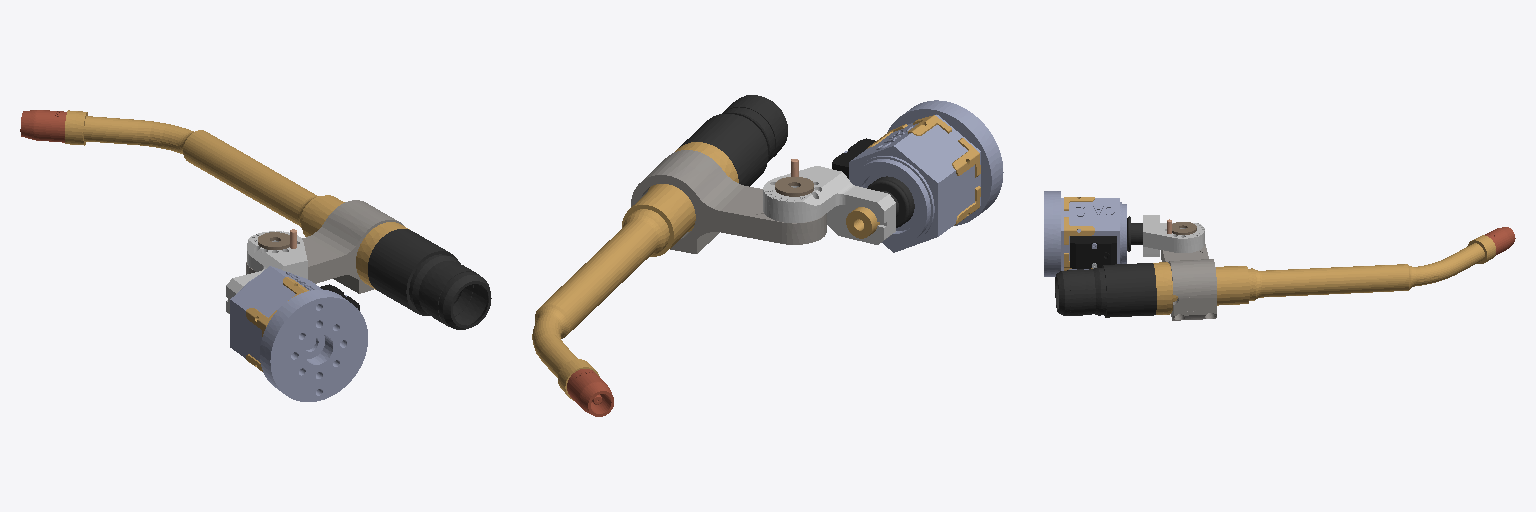
--- What the picture shows (computed from the rendered views, not written in the file) ---
Views: 3 orthographic renders of the robot side by side, from view 1: azimuth 30°, elevation 25°; view 2: azimuth 150°, elevation 25°; view 3: azimuth 270°, elevation 25°.
Model robot with 14 links and 13 joints (6 revolute, 7 fixed), rooted at world, posed all joints at 0.
Visible links, largest first — view 1: root, ee_joint_arm, nozzle_tip; view 2: root, ee_joint_arm, nozzle_tip; view 3: root, ee_joint_arm.
Link boxes in pixels (x1,y1,x2,y2): root: [65, 110, 491, 371]; ee_joint_arm: [260, 290, 367, 401]; nozzle_tip: [20, 110, 66, 142]; root: [532, 95, 980, 404]; ee_joint_arm: [887, 100, 1003, 225]; nozzle_tip: [567, 369, 613, 416]; root: [1055, 197, 1495, 320]; ee_joint_arm: [1044, 191, 1060, 276].
Size in the robot's own frame: 0.3655 by 0.8374 by 0.153 metres.
Meshes: 35 distinct files referenced, 28 mesh visuals loaded (28 binary STL); not drawn: 7 (reference not matched to a file when rendering).

robot.urdf — robot:
<robot name="">
	<link name="world">
		<inertial>
			<origin rpy="0.00000 -0.00000 0.00000" xyz="0.00000 0.00000 0.00000" />
			<mass value="0.00000" />
			<inertia ixx="0.00000" ixy="0" ixz="0" iyy="0.00000" iyz="0" izz="0.00000" />
		</inertial>
	</link>
	<link name="base_link">
		<inertial>
			<origin rpy="0.00000 -0.00000 0.00000" xyz="0.00000 0.00000 0.00000" />
			<mass value="4.00000" />
			<inertia ixx="0.01063" ixy="0" ixz="0" iyy="0.00875" iyz="0" izz="0.01809" />
		</inertial>
		<visual>
			<origin rpy="0.00000 -0.00000 0.00000" xyz="0.00000 0.00000 0.00000" />
			<geometry>
				<mesh filename="rlbotics/envs/models/robots/universal_robots/ur10/meshes/ur10/visual/base.dae" scale="1.00000 1.00000 1.00000" />
			</geometry>
			<material name="0">
				<color rgba="0.70000 0.70000 0.70000 1.00000" />
			</material>
		</visual>
		<collision>
			<origin rpy="0.00000 -0.00000 0.00000" xyz="0.00000 0.00000 0.00000" />
			<geometry>
				<mesh filename="rlbotics/envs/models/robots/universal_robots/ur10/meshes/ur10/collision/base.stl" scale="1.00000 1.00000 1.00000" />
			</geometry>
		</collision>
	</link>
	<link name="shoulder_link">
		<inertial>
			<origin rpy="0.00000 -0.00000 0.00000" xyz="0.00000 0.00000 0.00000" />
			<mass value="7.77800" />
			<inertia ixx="0.03989" ixy="0" ixz="0" iyy="0.03770" iyz="0" izz="0.03412" />
		</inertial>
		<visual>
			<origin rpy="0.00000 -0.00000 0.00000" xyz="0.00000 0.00000 0.00000" />
			<geometry>
				<mesh filename="rlbotics/envs/models/robots/universal_robots/ur10/meshes/ur10/visual/shoulder.dae" scale="1.00000 1.00000 1.00000" />
			</geometry>
			<material name="1">
				<color rgba="0.70000 0.70000 0.70000 1.00000" />
			</material>
		</visual>
		<collision>
			<origin rpy="0.00000 -0.00000 0.00000" xyz="0.00000 0.00000 0.00000" />
			<geometry>
				<mesh filename="rlbotics/envs/models/robots/universal_robots/ur10/meshes/ur10/collision/shoulder.stl" scale="1.00000 1.00000 1.00000" />
			</geometry>
		</collision>
	</link>
	<link name="upper_arm_link">
		<inertial>
			<origin rpy="0.00000 -0.00000 0.00000" xyz="0.00000 -0.04500 0.30600" />
			<mass value="12.93000" />
			<inertia ixx="0.65013" ixy="0" ixz="0" iyy="0.64040" iyz="0" izz="0.06264" />
		</inertial>
		<visual>
			<origin rpy="0.00000 -0.00000 0.00000" xyz="0.00000 0.00000 0.00000" />
			<geometry>
				<mesh filename="rlbotics/envs/models/robots/universal_robots/ur10/meshes/ur10/visual/upperarm.dae" scale="1.00000 1.00000 1.00000" />
			</geometry>
			<material name="2">
				<color rgba="0.70000 0.70000 0.70000 1.00000" />
			</material>
		</visual>
		<collision>
			<origin rpy="0.00000 -0.00000 0.00000" xyz="0.00000 0.00000 0.00000" />
			<geometry>
				<mesh filename="rlbotics/envs/models/robots/universal_robots/ur10/meshes/ur10/collision/upperarm.stl" scale="1.00000 1.00000 1.00000" />
			</geometry>
		</collision>
	</link>
	<link name="forearm_link">
		<inertial>
			<origin rpy="0.00000 -0.00000 0.00000" xyz="0.00000 0.00000 0.28615" />
			<mass value="3.87000" />
			<inertia ixx="0.15749" ixy="0" ixz="0" iyy="0.15609" iyz="0" izz="0.01167" />
		</inertial>
		<visual>
			<origin rpy="0.00000 -0.00000 0.00000" xyz="0.00000 0.00000 0.00000" />
			<geometry>
				<mesh filename="rlbotics/envs/models/robots/universal_robots/ur10/meshes/ur10/visual/forearm.dae" scale="1.00000 1.00000 1.00000" />
			</geometry>
			<material name="3">
				<color rgba="0.70000 0.70000 0.70000 1.00000" />
			</material>
		</visual>
		<collision>
			<origin rpy="0.00000 -0.00000 0.00000" xyz="0.00000 0.00000 0.00000" />
			<geometry>
				<mesh filename="rlbotics/envs/models/robots/universal_robots/ur10/meshes/ur10/collision/forearm.stl" scale="1.00000 1.00000 1.00000" />
			</geometry>
		</collision>
	</link>
	<link name="wrist_1_link">
		<inertial>
			<origin rpy="0.00000 -0.00000 0.00000" xyz="0.00000 0.11490 0.00000" />
			<mass value="1.96000" />
			<inertia ixx="0.00438" ixy="0" ixz="0" iyy="0.00408" iyz="0" izz="0.00338" />
		</inertial>
		<visual>
			<origin rpy="0.00000 -0.00000 0.00000" xyz="0.00000 0.00000 0.00000" />
			<geometry>
				<mesh filename="rlbotics/envs/models/robots/universal_robots/ur10/meshes/ur10/visual/wrist1.dae" scale="1.00000 1.00000 1.00000" />
			</geometry>
			<material name="4">
				<color rgba="0.70000 0.70000 0.70000 1.00000" />
			</material>
		</visual>
		<collision>
			<origin rpy="0.00000 -0.00000 0.00000" xyz="0.00000 0.00000 0.00000" />
			<geometry>
				<mesh filename="rlbotics/envs/models/robots/universal_robots/ur10/meshes/ur10/collision/wrist1.stl" scale="1.00000 1.00000 1.00000" />
			</geometry>
		</collision>
	</link>
	<link name="wrist_2_link">
		<inertial>
			<origin rpy="0.00000 -0.00000 0.00000" xyz="0.00000 0.00000 0.11570" />
			<mass value="1.96000" />
			<inertia ixx="0.00438" ixy="0" ixz="0" iyy="0.00338" iyz="0" izz="0.00409" />
		</inertial>
		<visual>
			<origin rpy="0.00000 -0.00000 0.00000" xyz="0.00000 0.00000 0.00000" />
			<geometry>
				<mesh filename="rlbotics/envs/models/robots/universal_robots/ur10/meshes/ur10/visual/wrist2.dae" scale="1.00000 1.00000 1.00000" />
			</geometry>
			<material name="5">
				<color rgba="0.70000 0.70000 0.70000 1.00000" />
			</material>
		</visual>
		<collision>
			<origin rpy="0.00000 -0.00000 0.00000" xyz="0.00000 0.00000 0.00000" />
			<geometry>
				<mesh filename="rlbotics/envs/models/robots/universal_robots/ur10/meshes/ur10/collision/wrist2.stl" scale="1.00000 1.00000 1.00000" />
			</geometry>
		</collision>
	</link>
	<link name="wrist_3_link">
		<inertial>
			<origin rpy="1.57080 -0.00000 0.00000" xyz="0.00000 0.07695 0.00000" />
			<mass value="0.20200" />
			<inertia ixx="0.00018" ixy="0" ixz="0" iyy="0.00018" iyz="0" izz="0.00031" />
		</inertial>
		<visual>
			<origin rpy="0.00000 -0.00000 0.00000" xyz="0.00000 0.00000 0.00000" />
			<geometry>
				<mesh filename="rlbotics/envs/models/robots/universal_robots/ur10/meshes/ur10/visual/wrist3.dae" scale="1.00000 1.00000 1.00000" />
			</geometry>
			<material name="6">
				<color rgba="0.70000 0.70000 0.70000 1.00000" />
			</material>
		</visual>
		<collision>
			<origin rpy="0.00000 -0.00000 0.00000" xyz="0.00000 0.00000 -0.00000" />
			<geometry>
				<mesh filename="rlbotics/envs/models/robots/universal_robots/ur10/meshes/ur10/collision/wrist3.stl" scale="1.00000 1.00000 1.00000" />
			</geometry>
		</collision>
	</link>
	<link name="ee_link">
		<inertial>
			<origin rpy="0.00000 -0.00000 0.00000" xyz="0.00000 0.00000 0.00000" />
			<mass value="1.00000" />
			<inertia ixx="0.00002" ixy="0" ixz="0" iyy="0.00002" iyz="0" izz="0.00002" />
		</inertial>
		<visual>
			<origin rpy="0.00000 -0.00000 0.00000" xyz="-0.01000 0.00000 0.00000" />
			<geometry>
				<box size="0.01000 0.01000 0.01000" />
			</geometry>
			<material name="7">
				<color rgba="1.00000 1.00000 1.00000 1.00000" />
			</material>
		</visual>
		<collision>
			<origin rpy="0.00000 -0.00000 0.00000" xyz="-0.01000 0.00000 0.00000" />
			<geometry>
				<box size="0.01000 0.01000 0.01000" />
			</geometry>
		</collision>
	</link>
	<link name="tool0">
		<inertial>
			<origin rpy="0.00000 -0.00000 0.00000" xyz="0.00000 0.00000 0.00000" />
			<mass value="1.00000" />
			<inertia ixx="0.00000" ixy="0" ixz="0" iyy="0.00000" iyz="0" izz="0.00000" />
		</inertial>
	</link>
	<link name="base">
		<inertial>
			<origin rpy="0.00000 -0.00000 0.00000" xyz="0.00000 0.00000 0.00000" />
			<mass value="1.00000" />
			<inertia ixx="0.00000" ixy="0" ixz="0" iyy="0.00000" iyz="0" izz="0.00000" />
		</inertial>
	</link>
	<link name="root">
		<inertial>
			<origin rpy="0.00000 -0.00000 0.00000" xyz="-0.01448 -0.00427 0.02204" />
			<mass value="10.00000" />
			<inertia ixx="0.62536" ixy="0" ixz="0" iyy="0.53801" iyz="0" izz="0.12460" />
		</inertial>
		<visual>
			<origin rpy="0.00000 -0.00000 0.00000" xyz="-0.02792 -0.00816 0.04271" />
			<geometry>
				<mesh filename="rlbotics/envs/models/end_effectors/welding/welding_torch/meshes/stl/Body1.stl" scale="0.01913 0.01913 0.01913" />
			</geometry>
			<material name="8">
				<color rgba="0.80000 0.80000 0.80000 1.00000" />
			</material>
		</visual>
		<visual>
			<origin rpy="0.00000 -0.00000 0.00000" xyz="-0.02792 -0.00816 0.04271" />
			<geometry>
				<mesh filename="rlbotics/envs/models/end_effectors/welding/welding_torch/meshes/stl/Body10.stl" scale="0.01913 0.01913 0.01913" />
			</geometry>
			<material name="9">
				<color rgba="0.80000 0.64627 0.39843 1.00000" />
			</material>
		</visual>
		<visual>
			<origin rpy="0.00000 -0.00000 0.00000" xyz="-0.02792 -0.00816 0.04271" />
			<geometry>
				<mesh filename="rlbotics/envs/models/end_effectors/welding/welding_torch/meshes/stl/Body11.stl" scale="0.01913 0.01913 0.01913" />
			</geometry>
			<material name="10">
				<color rgba="0.80000 0.64627 0.39843 1.00000" />
			</material>
		</visual>
		<visual>
			<origin rpy="0.00000 -0.00000 0.00000" xyz="-0.02792 -0.00816 0.04271" />
			<geometry>
				<mesh filename="rlbotics/envs/models/end_effectors/welding/welding_torch/meshes/stl/Body12.stl" scale="0.01913 0.01913 0.01913" />
			</geometry>
			<material name="11">
				<color rgba="0.63373 0.65569 0.74667 1.00000" />
			</material>
		</visual>
		<visual>
			<origin rpy="0.00000 -0.00000 0.00000" xyz="-0.02792 -0.00816 0.04271" />
			<geometry>
				<mesh filename="rlbotics/envs/models/end_effectors/welding/welding_torch/meshes/stl/Body13.stl" scale="0.01913 0.01913 0.01913" />
			</geometry>
			<material name="12">
				<color rgba="0.71843 0.73412 0.74353 1.00000" />
			</material>
		</visual>
		<visual>
			<origin rpy="0.00000 -0.00000 0.00000" xyz="-0.02792 -0.00816 0.04271" />
			<geometry>
				<mesh filename="rlbotics/envs/models/end_effectors/welding/welding_torch/meshes/stl/Body14.stl" scale="0.01913 0.01913 0.01913" />
			</geometry>
			<material name="13">
				<color rgba="0.63373 0.65569 0.74667 1.00000" />
			</material>
		</visual>
		<visual>
			<origin rpy="0.00000 -0.00000 0.00000" xyz="-0.02792 -0.00816 0.04271" />
			<geometry>
				<mesh filename="rlbotics/envs/models/end_effectors/welding/welding_torch/meshes/stl/Body15.stl" scale="0.01913 0.01913 0.01913" />
			</geometry>
			<material name="14">
				<color rgba="0.80000 0.64627 0.39843 1.00000" />
			</material>
		</visual>
		<visual>
			<origin rpy="0.00000 -0.00000 0.00000" xyz="-0.02792 -0.00816 0.04271" />
			<geometry>
				<mesh filename="rlbotics/envs/models/end_effectors/welding/welding_torch/meshes/stl/Body16.stl" scale="0.01913 0.01913 0.01913" />
			</geometry>
			<material name="15">
				<color rgba="0.63373 0.65569 0.74667 1.00000" />
			</material>
		</visual>
		<visual>
			<origin rpy="0.00000 -0.00000 0.00000" xyz="-0.02792 -0.00816 0.04271" />
			<geometry>
				<mesh filename="rlbotics/envs/models/end_effectors/welding/welding_torch/meshes/stl/Body17.stl" scale="0.01913 0.01913 0.01913" />
			</geometry>
			<material name="16">
				<color rgba="0.63373 0.65569 0.74667 1.00000" />
			</material>
		</visual>
		<visual>
			<origin rpy="0.00000 -0.00000 0.00000" xyz="-0.02792 -0.00816 0.04271" />
			<geometry>
				<mesh filename="rlbotics/envs/models/end_effectors/welding/welding_torch/meshes/stl/Body18.stl" scale="0.01913 0.01913 0.01913" />
			</geometry>
			<material name="17">
				<color rgba="0.63373 0.65569 0.74667 1.00000" />
			</material>
		</visual>
		<visual>
			<origin rpy="0.00000 -0.00000 0.00000" xyz="-0.02792 -0.00816 0.04271" />
			<geometry>
				<mesh filename="rlbotics/envs/models/end_effectors/welding/welding_torch/meshes/stl/Body19.stl" scale="0.01913 0.01913 0.01913" />
			</geometry>
			<material name="18">
				<color rgba="0.63373 0.65569 0.74667 1.00000" />
			</material>
		</visual>
		<visual>
			<origin rpy="0.00000 -0.00000 0.00000" xyz="-0.02792 -0.00816 0.04271" />
			<geometry>
				<mesh filename="rlbotics/envs/models/end_effectors/welding/welding_torch/meshes/stl/Body2.stl" scale="0.01913 0.01913 0.01913" />
			</geometry>
			<material name="19">
				<color rgba="0.54902 0.48627 0.42353 1.00000" />
			</material>
		</visual>
		<visual>
			<origin rpy="0.00000 -0.00000 0.00000" xyz="-0.02792 -0.00816 0.04271" />
			<geometry>
				<mesh filename="rlbotics/envs/models/end_effectors/welding/welding_torch/meshes/stl/Body20.stl" scale="0.01913 0.01913 0.01913" />
			</geometry>
			<material name="20">
				<color rgba="0.63373 0.65569 0.74667 1.00000" />
			</material>
		</visual>
		<visual>
			<origin rpy="0.00000 -0.00000 0.00000" xyz="-0.02792 -0.00816 0.04271" />
			<geometry>
				<mesh filename="rlbotics/envs/models/end_effectors/welding/welding_torch/meshes/stl/Body21.stl" scale="0.01913 0.01913 0.01913" />
			</geometry>
			<material name="21">
				<color rgba="0.80000 0.64627 0.39843 1.00000" />
			</material>
		</visual>
		<visual>
			<origin rpy="0.00000 -0.00000 0.00000" xyz="-0.02792 -0.00816 0.04271" />
			<geometry>
				<mesh filename="rlbotics/envs/models/end_effectors/welding/welding_torch/meshes/stl/Body23.stl" scale="0.01913 0.01913 0.01913" />
			</geometry>
			<material name="22">
				<color rgba="0.23843 0.23843 0.23843 1.00000" />
			</material>
		</visual>
		<visual>
			<origin rpy="0.00000 -0.00000 0.00000" xyz="-0.02792 -0.00816 0.04271" />
			<geometry>
				<mesh filename="rlbotics/envs/models/end_effectors/welding/welding_torch/meshes/stl/Body24.stl" scale="0.01913 0.01913 0.01913" />
			</geometry>
			<material name="23">
				<color rgba="0.80000 0.64627 0.39843 1.00000" />
			</material>
		</visual>
		<visual>
			<origin rpy="0.00000 -0.00000 0.00000" xyz="-0.02792 -0.00816 0.04271" />
			<geometry>
				<mesh filename="rlbotics/envs/models/end_effectors/welding/welding_torch/meshes/stl/Body25.stl" scale="0.01913 0.01913 0.01913" />
			</geometry>
			<material name="24">
				<color rgba="0.23843 0.23843 0.23843 1.00000" />
			</material>
		</visual>
		<visual>
			<origin rpy="0.00000 -0.00000 0.00000" xyz="-0.02792 -0.00816 0.04271" />
			<geometry>
				<mesh filename="rlbotics/envs/models/end_effectors/welding/welding_torch/meshes/stl/Body26.stl" scale="0.01913 0.01913 0.01913" />
			</geometry>
			<material name="25">
				<color rgba="0.62118 0.55843 0.51137 1.00000" />
			</material>
		</visual>
		<visual>
			<origin rpy="0.00000 -0.00000 0.00000" xyz="-0.02792 -0.00816 0.04271" />
			<geometry>
				<mesh filename="rlbotics/envs/models/end_effectors/welding/welding_torch/meshes/stl/Body27.stl" scale="0.01913 0.01913 0.01913" />
			</geometry>
			<material name="26">
				<color rgba="0.67137 0.37333 0.29490 1.00000" />
			</material>
		</visual>
		<visual>
			<origin rpy="0.00000 -0.00000 0.00000" xyz="-0.02792 -0.00816 0.04271" />
			<geometry>
				<mesh filename="rlbotics/envs/models/end_effectors/welding/welding_torch/meshes/stl/Body3.stl" scale="0.01913 0.01913 0.01913" />
			</geometry>
			<material name="27">
				<color rgba="0.62118 0.60549 0.58980 1.00000" />
			</material>
		</visual>
		<visual>
			<origin rpy="0.00000 -0.00000 0.00000" xyz="-0.02792 -0.00816 0.04271" />
			<geometry>
				<mesh filename="rlbotics/envs/models/end_effectors/welding/welding_torch/meshes/stl/Body4.stl" scale="0.01913 0.01913 0.01913" />
			</geometry>
			<material name="28">
				<color rgba="0.80000 0.62431 0.52706 1.00000" />
			</material>
		</visual>
		<visual>
			<origin rpy="0.00000 -0.00000 0.00000" xyz="-0.02792 -0.00816 0.04271" />
			<geometry>
				<mesh filename="rlbotics/envs/models/end_effectors/welding/welding_torch/meshes/stl/Body5.stl" scale="0.01913 0.01913 0.01913" />
			</geometry>
			<material name="29">
				<color rgba="0.63373 0.65569 0.74667 1.00000" />
			</material>
		</visual>
		<visual>
			<origin rpy="0.00000 -0.00000 0.00000" xyz="-0.02792 -0.00816 0.04271" />
			<geometry>
				<mesh filename="rlbotics/envs/models/end_effectors/welding/welding_torch/meshes/stl/Body6.stl" scale="0.01913 0.01913 0.01913" />
			</geometry>
			<material name="30">
				<color rgba="0.16000 0.16000 0.16000 1.00000" />
			</material>
		</visual>
		<visual>
			<origin rpy="0.00000 -0.00000 0.00000" xyz="-0.02792 -0.00816 0.04271" />
			<geometry>
				<mesh filename="rlbotics/envs/models/end_effectors/welding/welding_torch/meshes/stl/Body7.stl" scale="0.01913 0.01913 0.01913" />
			</geometry>
			<material name="31">
				<color rgba="0.80000 0.64627 0.39843 1.00000" />
			</material>
		</visual>
		<visual>
			<origin rpy="0.00000 -0.00000 0.00000" xyz="-0.02792 -0.00816 0.04271" />
			<geometry>
				<mesh filename="rlbotics/envs/models/end_effectors/welding/welding_torch/meshes/stl/Body8.stl" scale="0.01913 0.01913 0.01913" />
			</geometry>
			<material name="32">
				<color rgba="0.80000 0.64627 0.39843 1.00000" />
			</material>
		</visual>
		<visual>
			<origin rpy="0.00000 -0.00000 0.00000" xyz="-0.02792 -0.00816 0.04271" />
			<geometry>
				<mesh filename="rlbotics/envs/models/end_effectors/welding/welding_torch/meshes/stl/Body9.stl" scale="0.01913 0.01913 0.01913" />
			</geometry>
			<material name="33">
				<color rgba="0.80000 0.64627 0.39843 1.00000" />
			</material>
		</visual>
		<collision>
			<origin rpy="0.00000 -0.00000 0.00000" xyz="-0.02694 -0.00899 0.04304" />
			<geometry>
				<mesh filename="rlbotics/envs/models/end_effectors/welding/welding_torch/meshes/stl/Body1.001.stl" scale="1.91308 1.91308 1.91308" />
			</geometry>
		</collision>
		<collision>
			<origin rpy="0.00000 -0.00000 0.00000" xyz="-0.03031 -0.00834 0.04250" />
			<geometry>
				<mesh filename="rlbotics/envs/models/end_effectors/welding/welding_torch/meshes/stl/Body23.001.stl" scale="1.91308 1.91308 1.91308" />
			</geometry>
		</collision>
		<collision>
			<origin rpy="0.00000 -0.00000 0.00000" xyz="-0.02830 -0.00808 0.04410" />
			<geometry>
				<mesh filename="rlbotics/envs/models/end_effectors/welding/welding_torch/meshes/stl/Body24.001.stl" scale="1.91308 1.91308 1.91308" />
			</geometry>
		</collision>
		<collision>
			<origin rpy="0.00000 -0.00000 0.00000" xyz="-0.02798 -0.00886 0.05092" />
			<geometry>
				<mesh filename="rlbotics/envs/models/end_effectors/welding/welding_torch/meshes/stl/Body25.001.stl" scale="1.91308 1.91308 1.91308" />
			</geometry>
		</collision>
		<collision>
			<origin rpy="0.00000 -0.00000 0.00000" xyz="-0.02695 -0.00714 0.04028" />
			<geometry>
				<mesh filename="rlbotics/envs/models/end_effectors/welding/welding_torch/meshes/stl/Body3.001.stl" scale="1.91308 1.91308 1.91308" />
			</geometry>
		</collision>
		<collision>
			<origin rpy="0.00000 -0.00000 0.00000" xyz="-0.02659 -0.00839 0.04212" />
			<geometry>
				<mesh filename="rlbotics/envs/models/end_effectors/welding/welding_torch/meshes/stl/Body5.001.stl" scale="1.91308 1.91308 1.91308" />
			</geometry>
		</collision>
		<collision>
			<origin rpy="0.00000 -0.00000 0.00000" xyz="-0.02771 -0.00796 0.04287" />
			<geometry>
				<mesh filename="rlbotics/envs/models/end_effectors/welding/welding_torch/meshes/stl/Body6.001.stl" scale="1.91308 1.91308 1.91308" />
			</geometry>
		</collision>
	</link>
	<link name="ee_joint_arm">
		<inertial>
			<origin rpy="0.00000 -0.00000 0.00000" xyz="-0.01458 -0.00585 0.05244" />
			<mass value="2.00000" />
			<inertia ixx="0.00442" ixy="0" ixz="0" iyy="0.00442" iyz="0" izz="0.00843" />
		</inertial>
		<visual>
			<origin rpy="0.00000 -0.00000 0.00000" xyz="-0.02797 -0.01121 0.09982" />
			<geometry>
				<mesh filename="rlbotics/envs/models/end_effectors/welding/welding_torch/meshes/stl/Body22.stl" scale="0.01913 0.01913 0.01913" />
			</geometry>
			<material name="34">
				<color rgba="0.63373 0.65569 0.74667 1.00000" />
			</material>
		</visual>
		<collision>
			<origin rpy="0.00000 -0.00000 0.00000" xyz="-0.02788 -0.01119 0.10032" />
			<geometry>
				<mesh filename="rlbotics/envs/models/end_effectors/welding/welding_torch/meshes/stl/Body22.001.stl" scale="1.91308 1.91308 1.91308" />
			</geometry>
		</collision>
	</link>
	<link name="nozzle_tip">
		<inertial>
			<origin rpy="0.00000 -0.00000 0.00000" xyz="-0.01570 -0.30904 -0.22158" />
			<mass value="2.00000" />
			<inertia ixx="0.00381" ixy="0" ixz="0" iyy="0.00232" iyz="0" izz="0.00228" />
		</inertial>
		<visual>
			<origin rpy="-0.92502 0.00000 0.00000" xyz="-0.02985 -0.59008 -0.41691" />
			<geometry>
				<mesh filename="rlbotics/envs/models/end_effectors/welding/welding_torch/meshes/stl/Body28.stl" scale="0.01913 0.01913 0.01913" />
			</geometry>
			<material name="35">
				<color rgba="0.67137 0.37333 0.29490 1.00000" />
			</material>
		</visual>
		<collision>
			<origin rpy="-0.92502 0.00000 0.00000" xyz="-0.03004 -0.59122 -0.42390" />
			<geometry>
				<mesh filename="rlbotics/envs/models/end_effectors/welding/welding_torch/meshes/stl/Body28.001.stl" scale="1.91308 1.91308 1.91308" />
			</geometry>
		</collision>
	</link>
	<joint name="world_joint" type="fixed">
		<parent link="world" />
		<child link="base_link" />
		<dynamics damping="1.0" friction="0.0001" />
		<origin rpy="0.00000 -0.00000 0.00000" xyz="0.00000 0.00000 0.00000" />
		<axis xyz="0.00000 0.00000 0.00000" />
	</joint>
	<joint name="shoulder_pan_joint" type="revolute">
		<parent link="base_link" />
		<child link="shoulder_link" />
		<dynamics damping="0.0" friction="0.0" />
		<origin rpy="0.00000 -0.00000 0.00000" xyz="0.00000 0.00000 0.12730" />
		<axis xyz="0.00000 0.00000 1.00000" />
	<limit effort="330.0" lower="-6.283185307179586" upper="6.283185307179586" velocity="2.16" /></joint>
	<joint name="shoulder_lift_joint" type="revolute">
		<parent link="shoulder_link" />
		<child link="upper_arm_link" />
		<dynamics damping="0.0" friction="0.0" />
		<origin rpy="0.00000 1.57080 -0.00000" xyz="0.00000 0.22094 0.00000" />
		<axis xyz="0.00000 1.00000 0.00000" />
	<limit effort="330.0" lower="-6.283185307179586" upper="6.283185307179586" velocity="2.16" /></joint>
	<joint name="elbow_joint" type="revolute">
		<parent link="upper_arm_link" />
		<child link="forearm_link" />
		<dynamics damping="0.0" friction="0.0" />
		<origin rpy="0.00000 -0.00000 0.00000" xyz="0.00000 -0.17190 0.61200" />
		<axis xyz="0.00000 1.00000 0.00000" />
	<limit effort="150.0" lower="-3.141592653589793" upper="3.141592653589793" velocity="3.15" /></joint>
	<joint name="wrist_1_joint" type="revolute">
		<parent link="forearm_link" />
		<child link="wrist_1_link" />
		<dynamics damping="0.0" friction="0.0" />
		<origin rpy="0.00000 1.57080 -0.00000" xyz="0.00000 0.00000 0.57230" />
		<axis xyz="0.00000 1.00000 0.00000" />
	<limit effort="54.0" lower="-6.283185307179586" upper="6.283185307179586" velocity="3.2" /></joint>
	<joint name="wrist_2_joint" type="revolute">
		<parent link="wrist_1_link" />
		<child link="wrist_2_link" />
		<dynamics damping="0.0" friction="0.0" />
		<origin rpy="0.00000 -0.00000 0.00000" xyz="0.00000 0.11490 0.00000" />
		<axis xyz="0.00000 0.00000 1.00000" />
	<limit effort="54.0" lower="-6.283185307179586" upper="6.283185307179586" velocity="3.2" /></joint>
	<joint name="wrist_3_joint" type="revolute">
		<parent link="wrist_2_link" />
		<child link="wrist_3_link" />
		<dynamics damping="0.0" friction="0.0" />
		<origin rpy="0.00000 -0.00000 0.00000" xyz="0.00000 0.00000 0.11570" />
		<axis xyz="0.00000 0.00000 -1.00000" />
	<limit effort="54.0" lower="-6.283185307179586" upper="6.283185307179586" velocity="3.2" /></joint>
	<joint name="ee_fixed_joint" type="fixed">
		<parent link="wrist_3_link" />
		<child link="ee_link" />
		<dynamics damping="1.0" friction="0.0001" />
		<origin rpy="0.00000 -0.00000 1.57080" xyz="0.00000 0.09220 0.00000" />
		<axis xyz="0.00000 0.00000 0.00000" />
	</joint>
	<joint name="wrist_3_link-tool0_fixed_joint" type="fixed">
		<parent link="wrist_3_link" />
		<child link="tool0" />
		<dynamics damping="1.0" friction="0.0001" />
		<origin rpy="-1.57080 0.00000 0.00000" xyz="0.00000 0.09220 0.00000" />
		<axis xyz="0.00000 0.00000 0.00000" />
	</joint>
	<joint name="base_link-base_fixed_joint" type="fixed">
		<parent link="base_link" />
		<child link="base" />
		<dynamics damping="1.0" friction="0.0001" />
		<origin rpy="0.00000 -0.00000 -3.14159" xyz="0.00000 0.00000 0.00000" />
		<axis xyz="0.00000 0.00000 0.00000" />
	</joint>
	<joint name="joint_dummy1" type="fixed">
		<parent link="ee_link" />
		<child link="root" />
		<dynamics damping="1.0" friction="0.0001" />
		<origin rpy="0.00000 1.57080 0.00000" xyz="0.00000 0.00000 0.00000" />
		<axis xyz="0.00000 0.00000 1.00000" />
	</joint>
	<joint name="ee_joint_arm" type="fixed">
		<parent link="root" />
		<child link="ee_joint_arm" />
		<dynamics damping="1.0" friction="0.0001" />
		<origin rpy="0.00000 -0.00000 0.00000" xyz="0.00005 0.00304 -0.05711" />
		<axis xyz="0.00000 0.00000 0.00000" />
	</joint>
	<joint name="nozzle_tip" type="fixed">
		<parent link="root" />
		<child link="nozzle_tip" />
		<dynamics damping="1.0" friction="0.0001" />
		<origin rpy="0.92502 -0.00000 0.00000" xyz="0.00193 0.01399 0.76487" />
		<axis xyz="0.00000 0.00000 0.00000" />
	</joint>
</robot>
